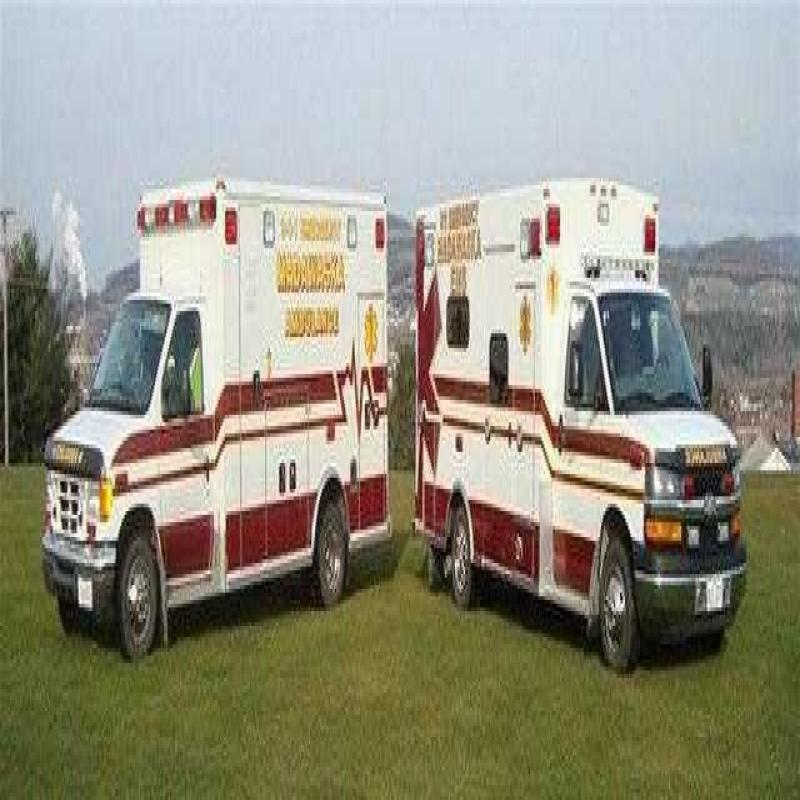AmbulanceSiren: (132, 177, 219, 253)
